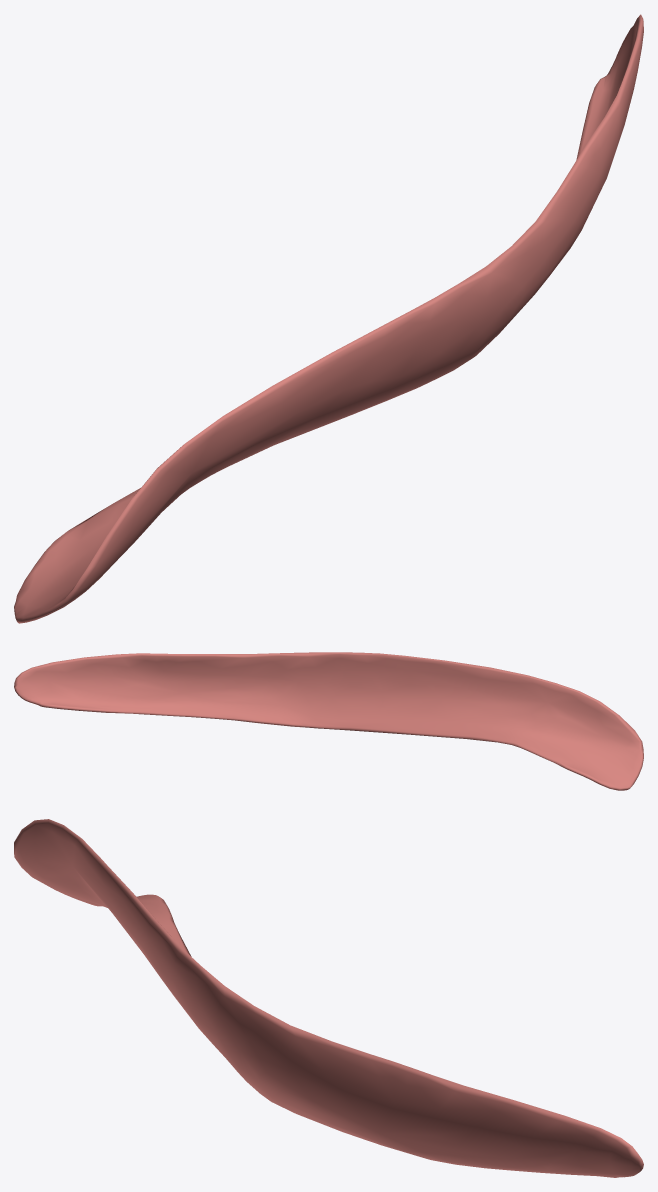
The picture shows the model from 3 angles, top to bottom: view 1: azimuth 30°, elevation 25°; view 2: azimuth 150°, elevation 25°; view 3: azimuth 270°, elevation 25°; orthographic projection. The views are drawn at different scales.
Parts seen in each view (by area): view 1: ZA_ac167cb1ccbd8beb; view 2: ZA_ac167cb1ccbd8beb; view 3: ZA_ac167cb1ccbd8beb.
Boxes of the visible parts, box(x1,y1,x2,y2) form: ZA_ac167cb1ccbd8beb: box(14, 14, 643, 623); ZA_ac167cb1ccbd8beb: box(14, 652, 643, 790); ZA_ac167cb1ccbd8beb: box(14, 819, 643, 1177).
Size of the model in its own units: 0.0654 by 0.0144 by 0.04.
